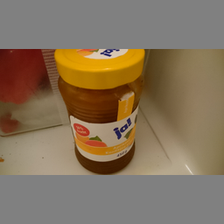jam: (53, 49, 147, 174)
